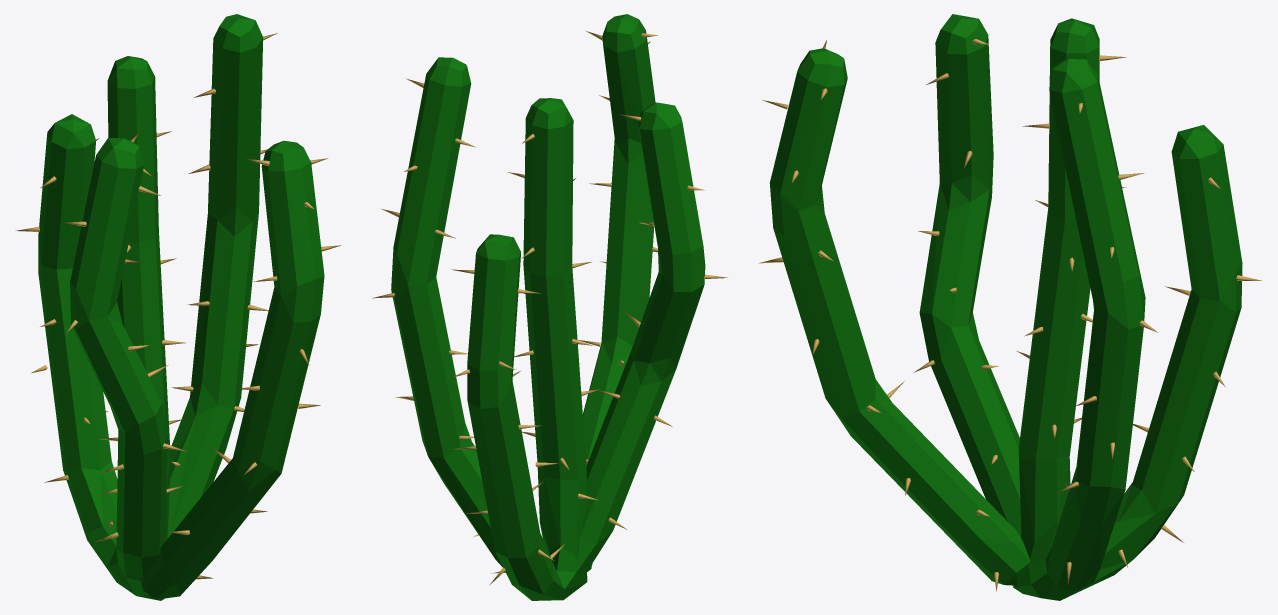
File: Cactus4.fbx
3 renders of one model, left to right at view 1: azimuth 30°, elevation 25°; view 2: azimuth 150°, elevation 25°; view 3: azimuth 270°, elevation 25°, orthographic. The views are drawn at different scales.
Parts seen in each view (by area): view 1: Cactus4; view 2: Cactus4; view 3: Cactus4.
Boxes of the visible parts, x1=… form: Cactus4: x1=38, y1=14, x2=324, y2=600; Cactus4: x1=391, y1=14, x2=705, y2=600; Cactus4: x1=769, y1=14, x2=1242, y2=600.
Size of the model in its own units: 305 by 550 by 430.
